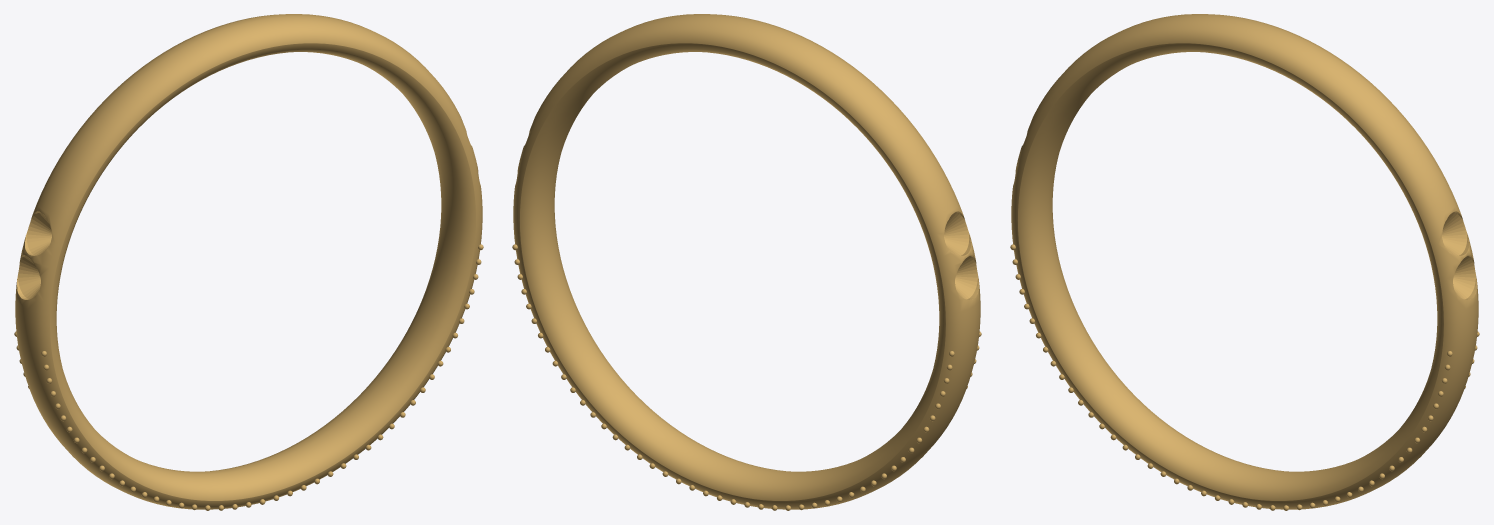
The model's file is vintage-flush-accents-multi.glb.
3 views of the same model, side by side, from view 1: azimuth 30°, elevation 25°; view 2: azimuth 150°, elevation 25°; view 3: azimuth 330°, elevation 25° (orthographic).
Parts seen in each view (by area): view 1: Band; view 2: Band; view 3: Band.
Part boxes in pixels (x1,y1,x2,y2): Band: (15,14,482,509); Band: (513,14,980,509); Band: (1011,14,1478,509).
Bounding box in the file's own units: 19.6 × 19.6 × 2.22.
